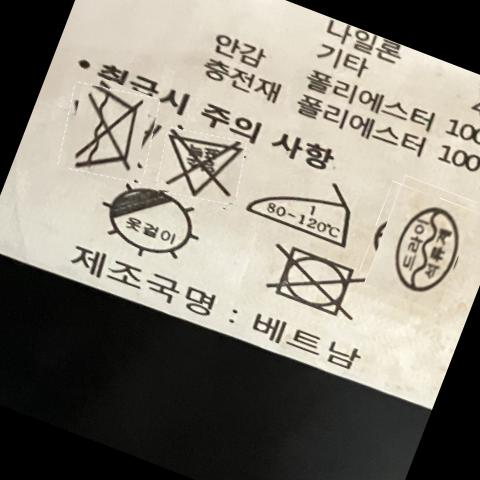DN_tumble_dry: (267, 246, 362, 320)
DN_wash: (70, 90, 152, 170)
dry_clean_petrol_only: (389, 204, 465, 294)
iron_low: (242, 178, 361, 248)
line_dry_in_shade: (105, 185, 203, 259)
non_chlorine_bleach: (165, 135, 246, 197)
